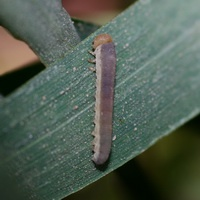insect: (93, 33, 115, 164)
